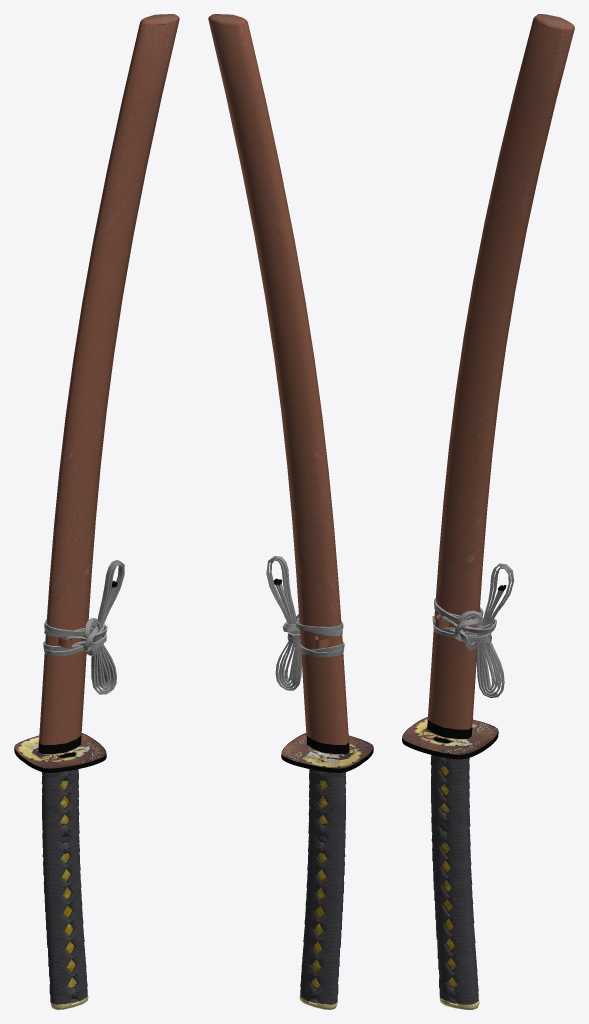
Rendered from katana1.glb.
3 views of the same model, side by side, from view 1: azimuth 30°, elevation 25°; view 2: azimuth 150°, elevation 25°; view 3: azimuth 330°, elevation 25° (orthographic). The views are drawn at different scales.
Parts seen in each view (by area): view 1: katana1_sheath, katana1; view 2: katana1_sheath, katana1; view 3: katana1_sheath, katana1.
Boxes of the visible parts, box(x1,y1,x2,y2) form: katana1_sheath: box(38, 14, 179, 754); katana1: box(14, 733, 106, 1009); katana1_sheath: box(208, 14, 349, 754); katana1: box(281, 733, 373, 1009); katana1_sheath: box(427, 14, 574, 738); katana1: box(402, 717, 498, 1009).
Bounding box in the file's own units: 0.1805 × 1.09 × 0.0818.
Materials: 1 (1 with a texture image).
